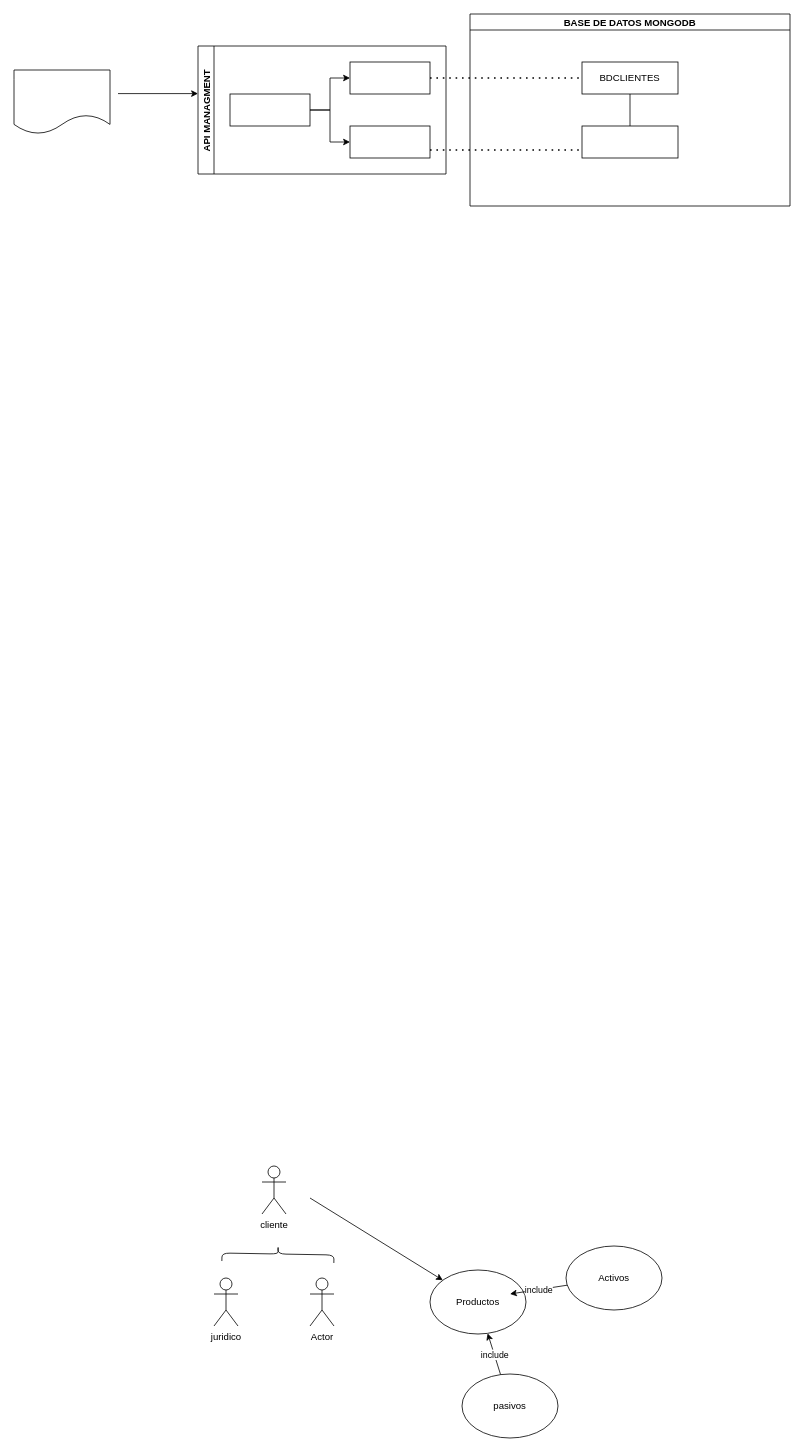
Some shapes in this 804 by 1452 pixel diagram are drawn without their labels. Here are the shapes that lost their labels. From the top down, the centre of each, then its label:
point (389, 77): MICROSERVICIO CLIENTE
point (61, 101): SOLICITUD CONSULTA
point (269, 109): SPRING CLOUD GATEWAY
point (389, 141): MICROSERVICIO CUENTAS
point (629, 141): BDCUENTAS
